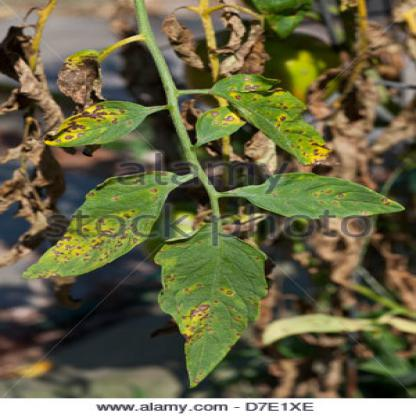tomato septoria leaf spot: (150, 217, 280, 389), (18, 165, 175, 286), (202, 66, 344, 163), (233, 165, 415, 230), (37, 96, 171, 152)
